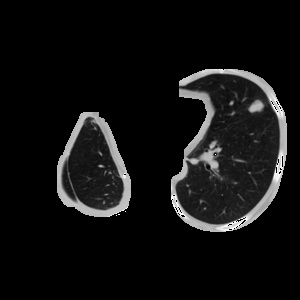PN: (251, 100, 263, 112)
